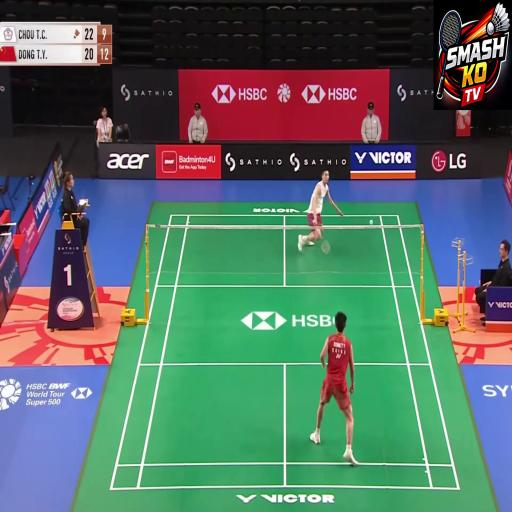player: (306, 295, 363, 475), (295, 142, 335, 270)
